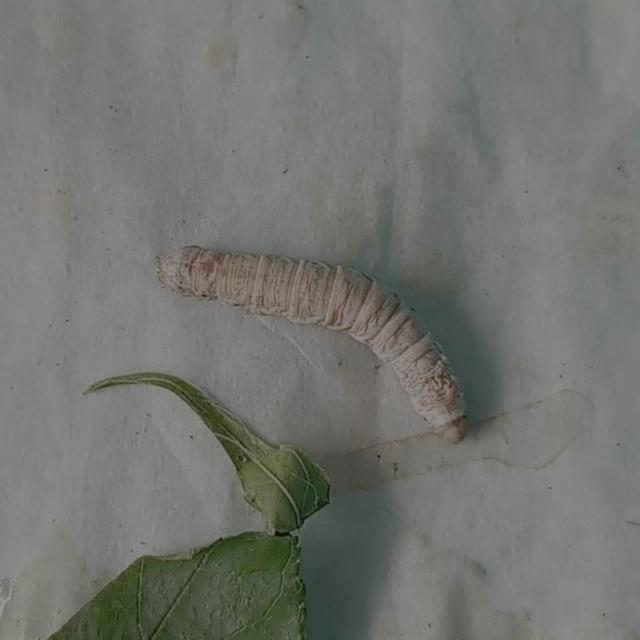Grasserie: (147, 221, 481, 447)
